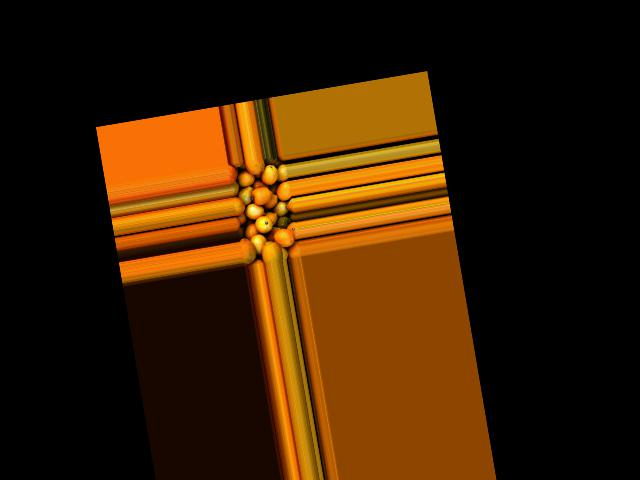lemon: (273, 180, 292, 203)
